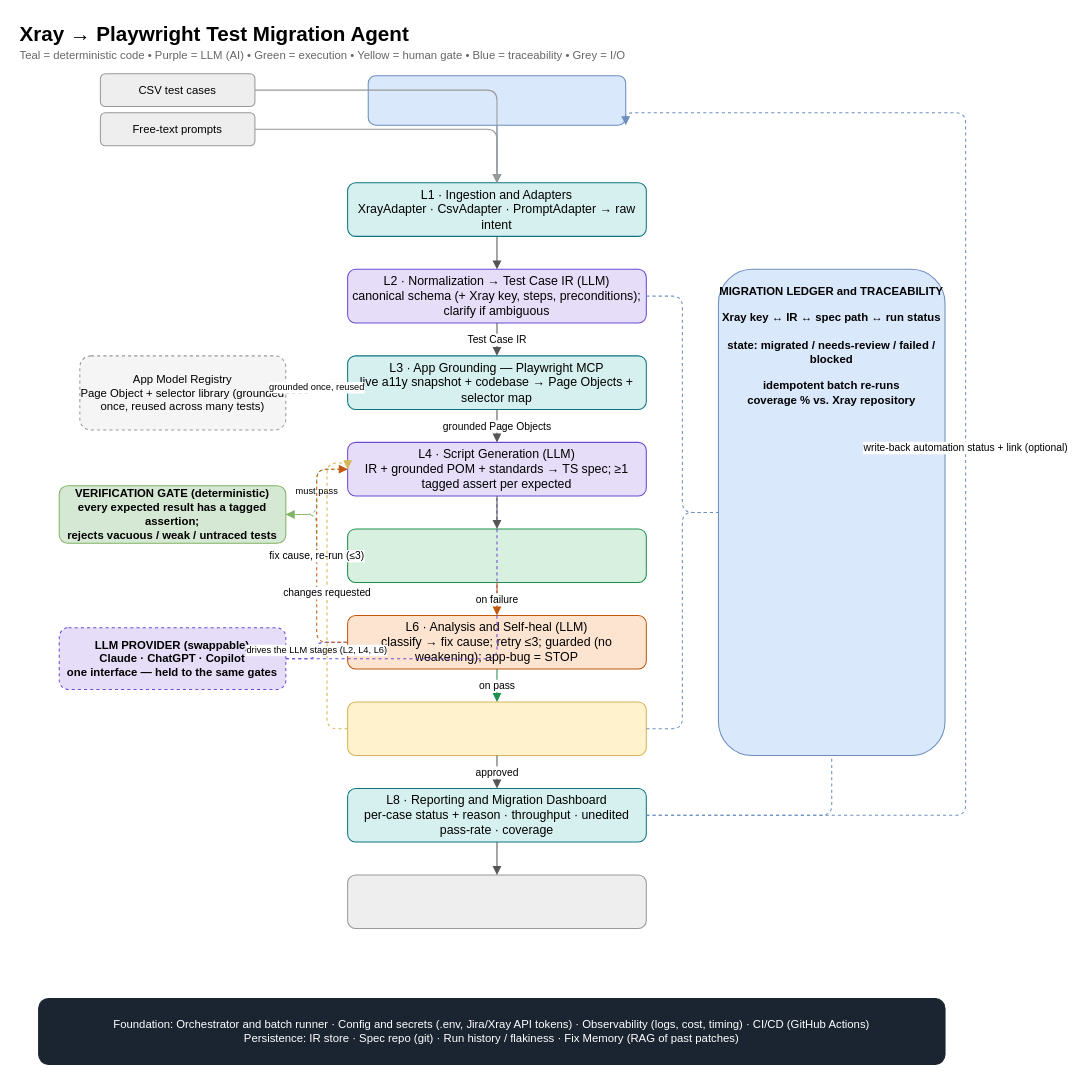
Some shapes in this 1085 by 1083 pixel diagram are drawn without their labels. The shapes that lost their labels are listed below. From the top down, each one's box as (x1, y1, x2, y2) in pixels, then its label:
(367, 75, 626, 125): XRAY (Jira) GraphQL / REST API · CSV / JSON export
(347, 528, 646, 582): L5 · Execution playwright test · trace / screenshot / video
(347, 701, 646, 756): L7 · Human Review Gate reviewer approves generated spec (PR) before merge
(347, 874, 646, 929): OUTPUTS tests/*.spec.ts (git PR) · traceability matrix · report.md/html · traces
